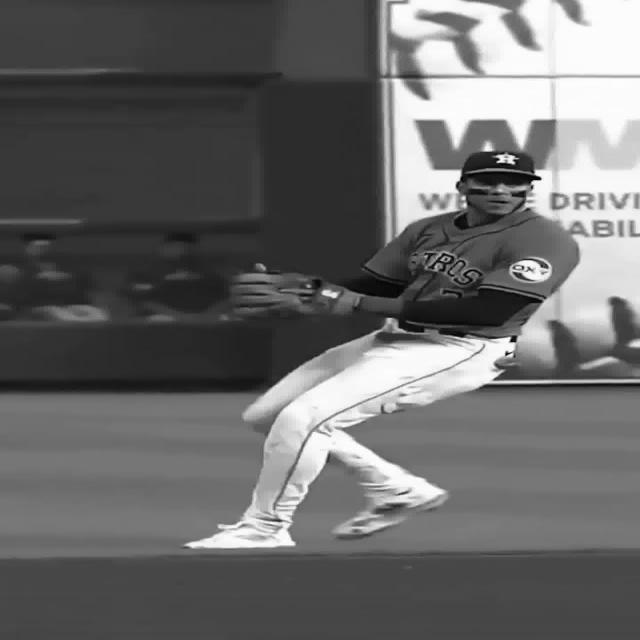baseball_glove: (231, 264, 358, 319)
shoe: (333, 475, 449, 539), (184, 519, 296, 549)
